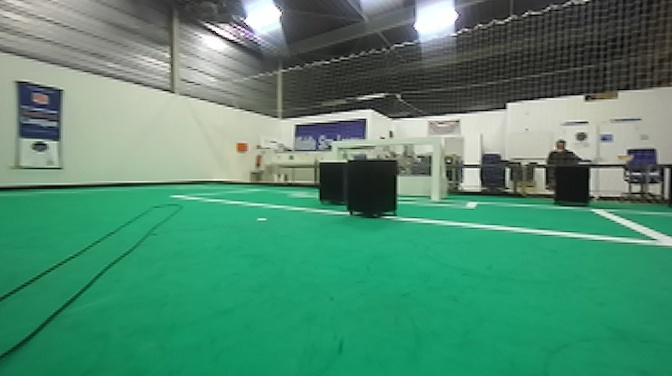goalpost: (428, 134, 444, 205)
